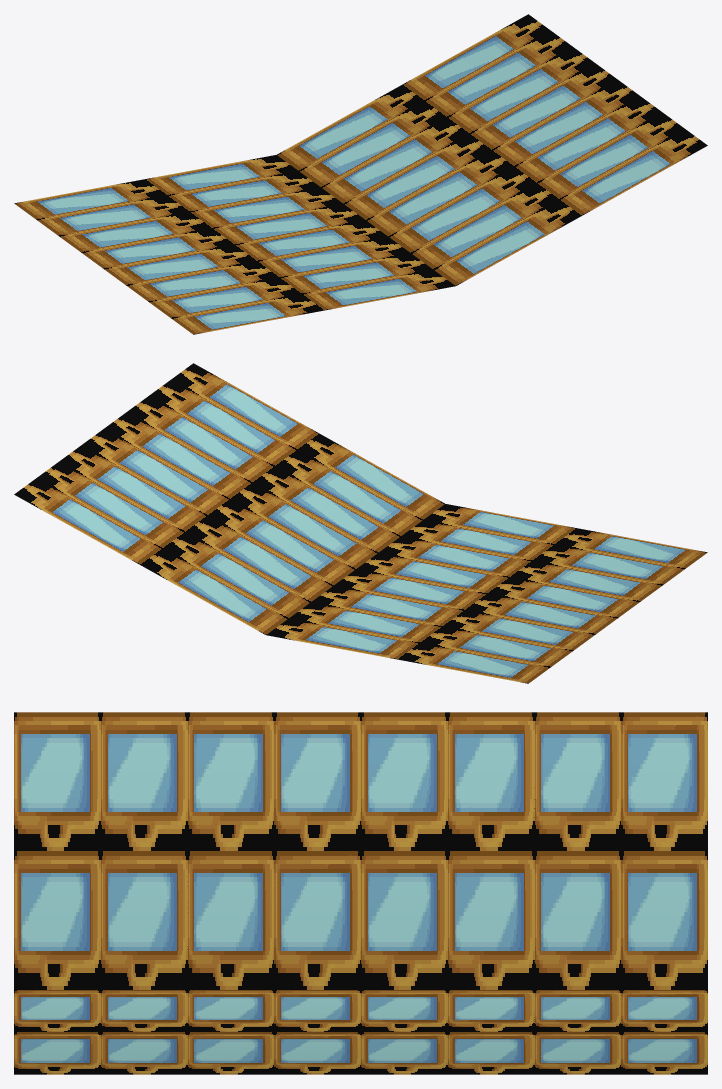
The model's file is 2742kagami.gltf.
3 views of the same model, one above another, from view 1: azimuth 30°, elevation 25°; view 2: azimuth 150°, elevation 25°; view 3: azimuth 270°, elevation 25° (orthographic). The views are drawn at different scales.
Visible parts, largest first — view 1: 2742kagami; view 2: 2742kagami; view 3: 2742kagami.
Boxes of the visible parts, x1,y1,x2,y2 form: 2742kagami: (14, 14, 707, 334); 2742kagami: (14, 363, 707, 683); 2742kagami: (14, 712, 707, 1074).
Bounding box in the file's own units: 0.6952 × 0.1022 × 0.42.
Materials: 1 (1 with a texture image).
